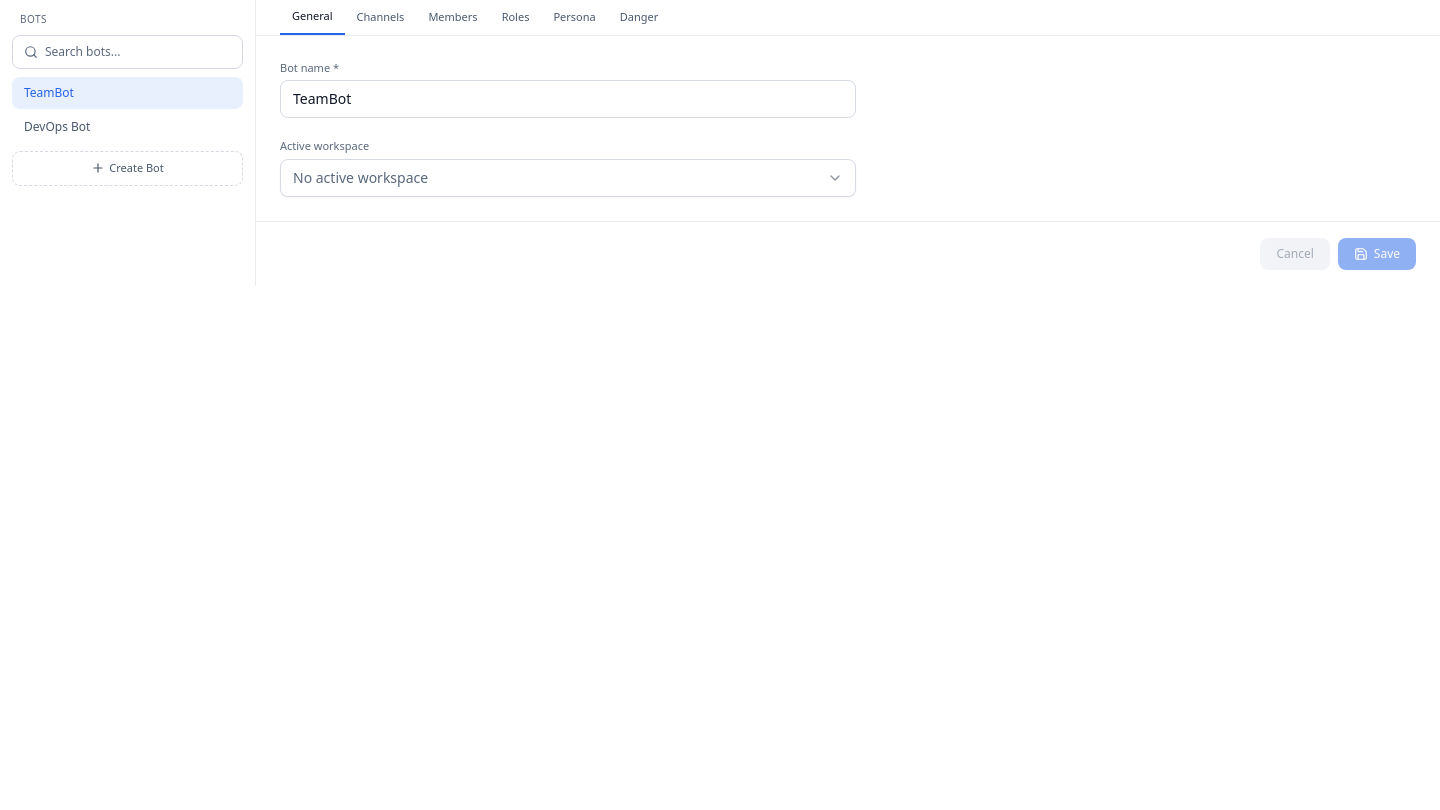
BotManagementPage › shows unsaved-changes dialog when switching bots with dirty persona config
Click the button "Persona" at (575, 17), box [541,0,608,34]
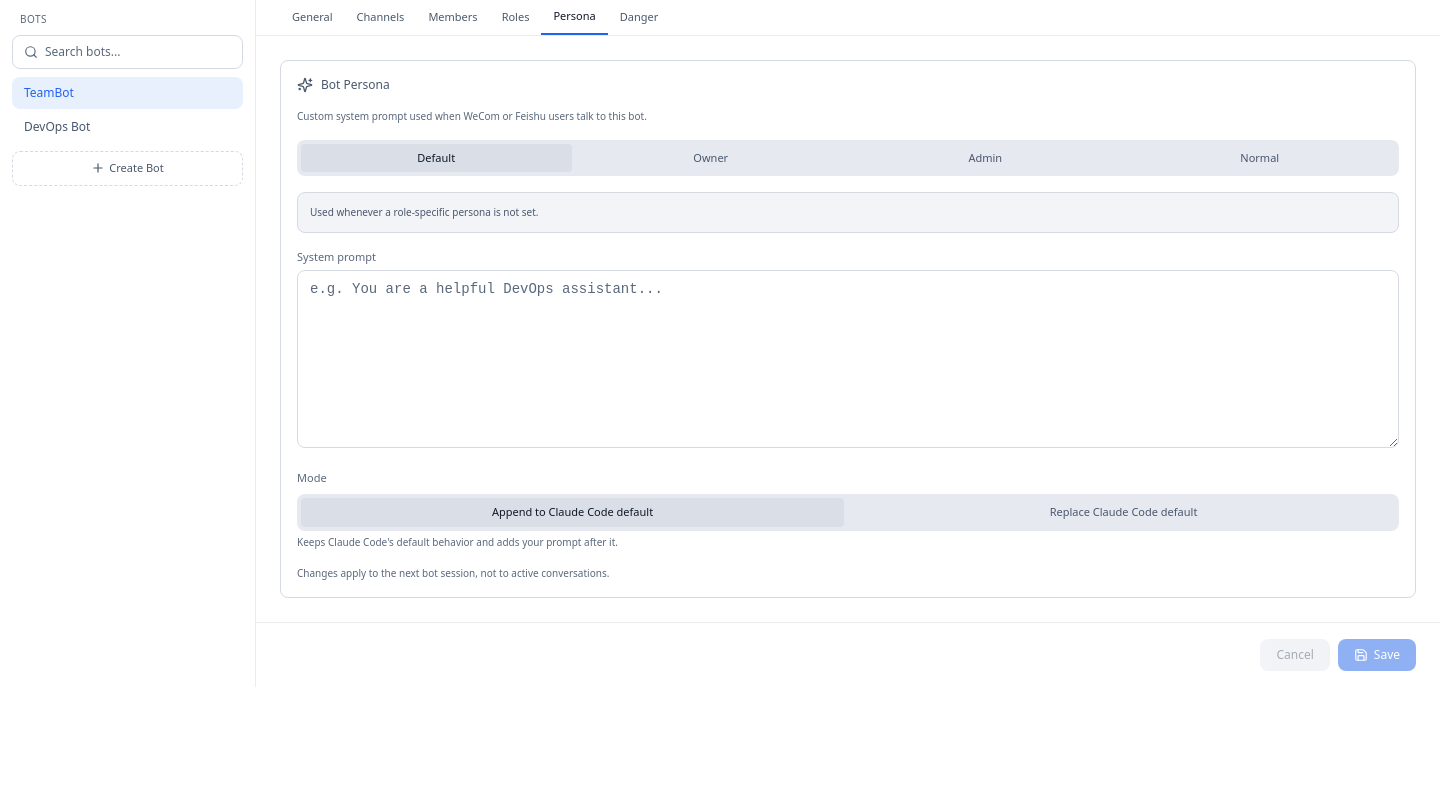
Check: the text box with placeholder "e.g. You are a helpful DevOps assistant..." is shown
Type "Friendly" into the text box with placeholder "e.g. You are a helpful DevOps assistant..." at (848, 358), box [297,270,1399,448]
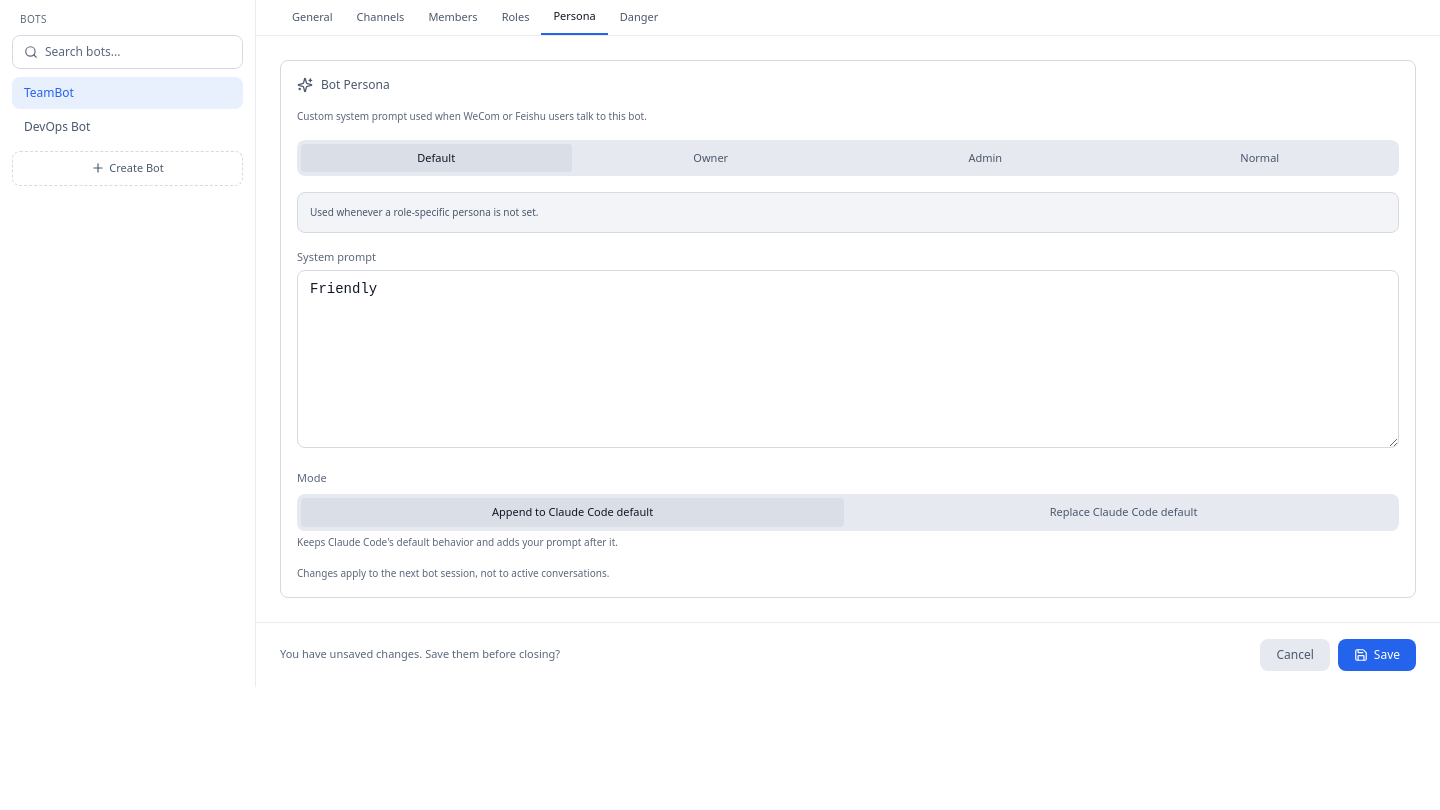
Click the button "DevOps Bot" at (128, 127), box [12,111,243,143]
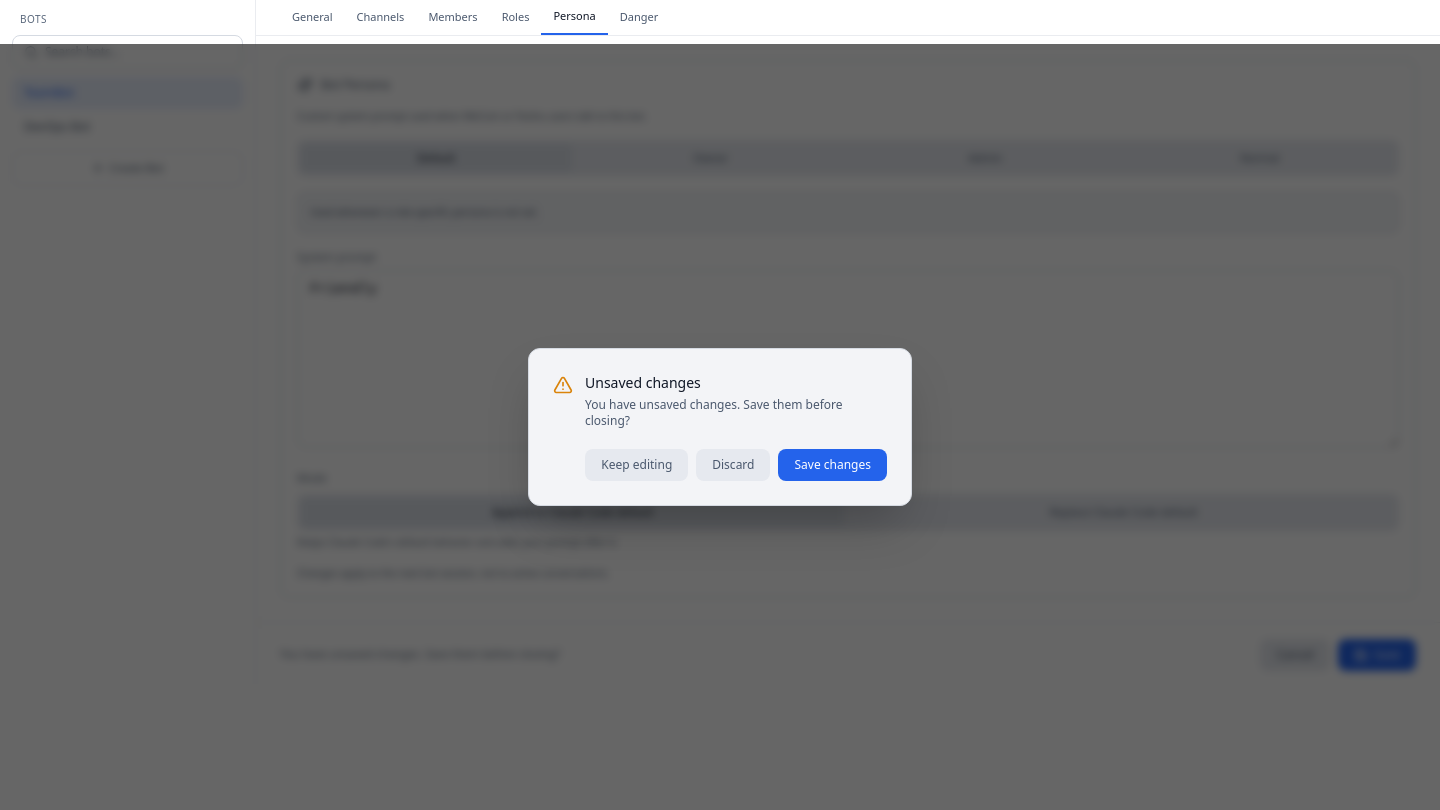
Check: the heading "Unsaved changes" is shown, box [585,373,701,392]
